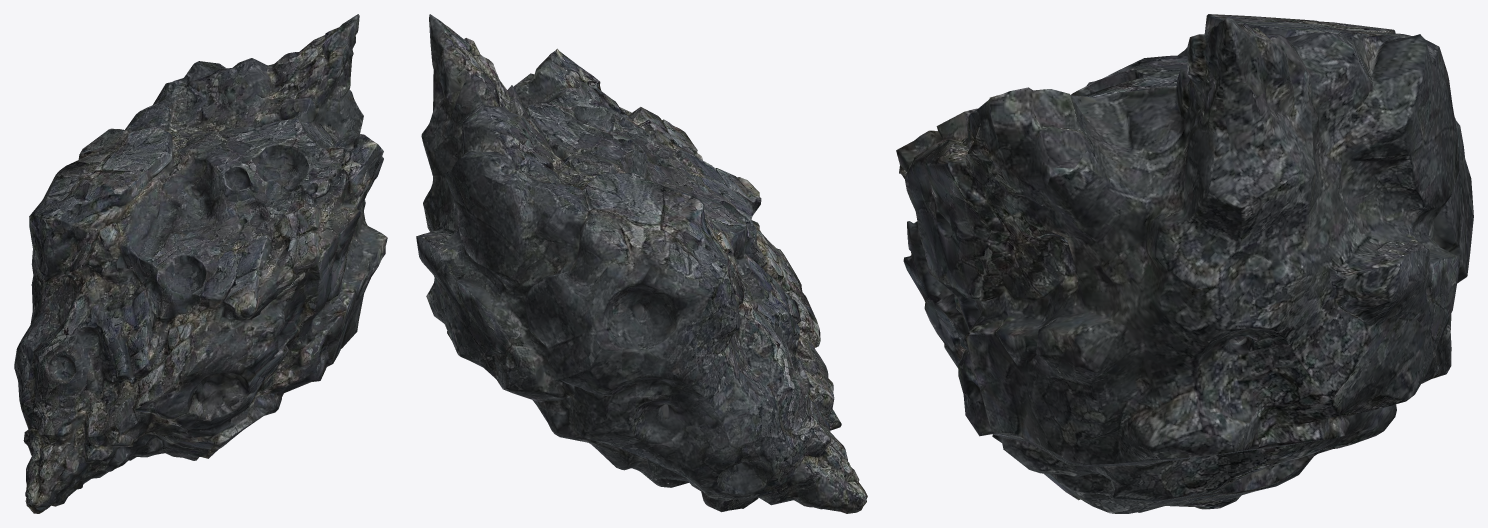
Rendered from obj_rock1.glb.
3 views of the same model, side by side, from view 1: azimuth 30°, elevation 25°; view 2: azimuth 150°, elevation 25°; view 3: azimuth 270°, elevation 25° (orthographic). The views are drawn at different scales.
Visible parts, largest first — view 1: tripo_node_3fbdc92a-9d72-4849-9c37-612d9fc71c67; view 2: tripo_node_3fbdc92a-9d72-4849-9c37-612d9fc71c67; view 3: tripo_node_3fbdc92a-9d72-4849-9c37-612d9fc71c67.
Boxes of the visible parts, x1,y1,x2,y2 form: tripo_node_3fbdc92a-9d72-4849-9c37-612d9fc71c67: [14, 14, 387, 513]; tripo_node_3fbdc92a-9d72-4849-9c37-612d9fc71c67: [416, 14, 867, 513]; tripo_node_3fbdc92a-9d72-4849-9c37-612d9fc71c67: [896, 14, 1473, 513].
Bounding box in the file's own units: 0.9646 × 0.9797 × 0.7456.
Materials: 1 (1 with a texture image).
